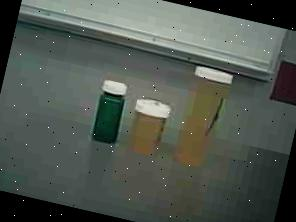Bottle A: (169, 60, 241, 176)
Bottle B: (122, 92, 176, 160)
Bottle C: (82, 72, 134, 151)
